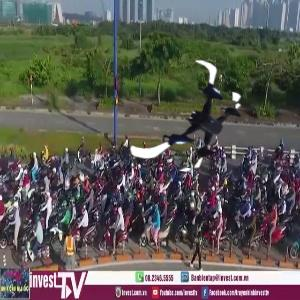drone: (137, 58, 257, 178)
